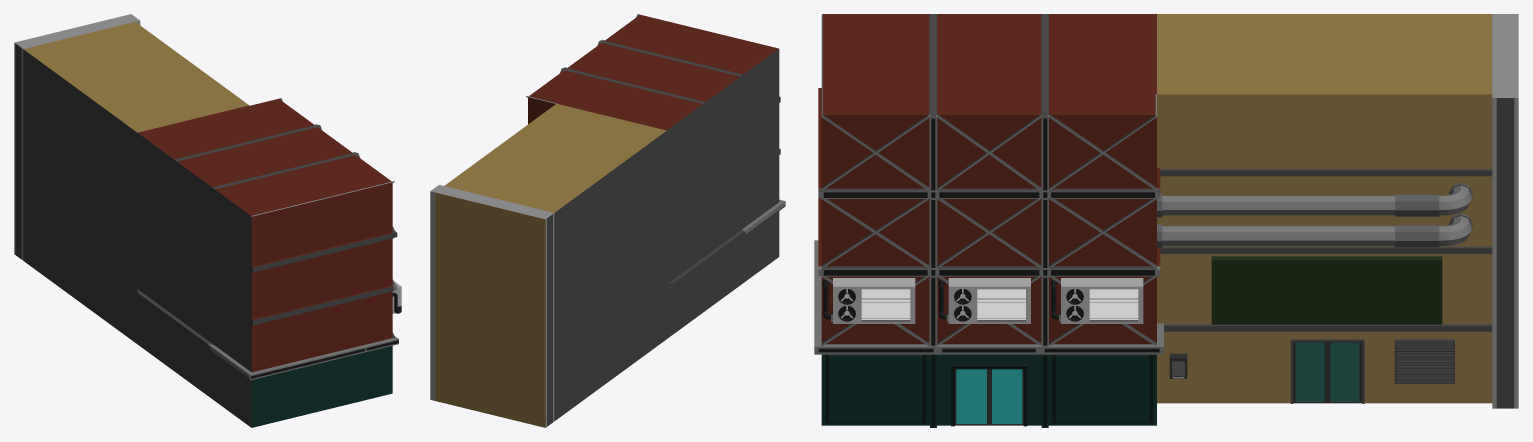
File: PropBuilding_8.fbx
3 renders of one model, left to right at view 1: azimuth 30°, elevation 25°; view 2: azimuth 150°, elevation 25°; view 3: azimuth 270°, elevation 25°, orthographic. The views are drawn at different scales.
Visible parts, largest first — view 1: PropBuilding8(Abandoned)_Body; view 2: PropBuilding8(Abandoned)_Body; view 3: PropBuilding8(Abandoned)_Body, BillBoard, Pipe, Pipe_2, PropBuilding8(Abandoned)_Door_2, AC MODEL.010, AC MODEL.009, AC MODEL.008, PropBuilding8(Abandoned)_Door, Shutters.001.
Boxes of the visible parts, x1,y1,x2,y2 form: PropBuilding8(Abandoned)_Body: (14,14,398,427); PropBuilding8(Abandoned)_Body: (430,14,785,427); PropBuilding8(Abandoned)_Body: (814,14,1518,427); BillBoard: (1211,256,1442,324); Pipe: (1157,182,1472,217); Pipe_2: (1157,213,1472,247); PropBuilding8(Abandoned)_Door_2: (1293,342,1362,403); AC MODEL.010: (822,278,915,323); AC MODEL.009: (1050,278,1143,323); AC MODEL.008: (938,278,1030,323); PropBuilding8(Abandoned)_Door: (955,369,1023,425); Shutters.001: (1396,341,1452,382).
Size of the model in its own units: 2048 by 2627 by 5393.
9 materials, 9 textured.
